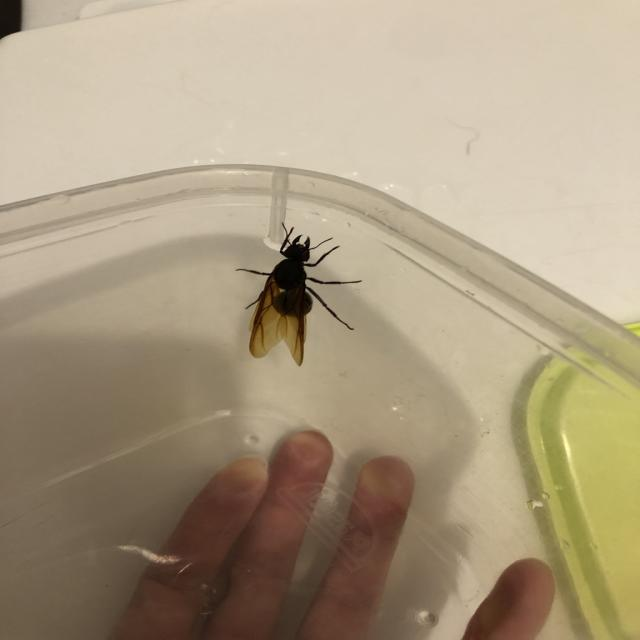Alive-Female-Alate: (235, 222, 362, 367)
